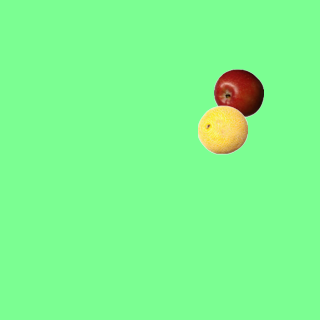Apple Braeburn: (213, 68, 263, 118)
Cantaloupe 1: (197, 104, 247, 154)
